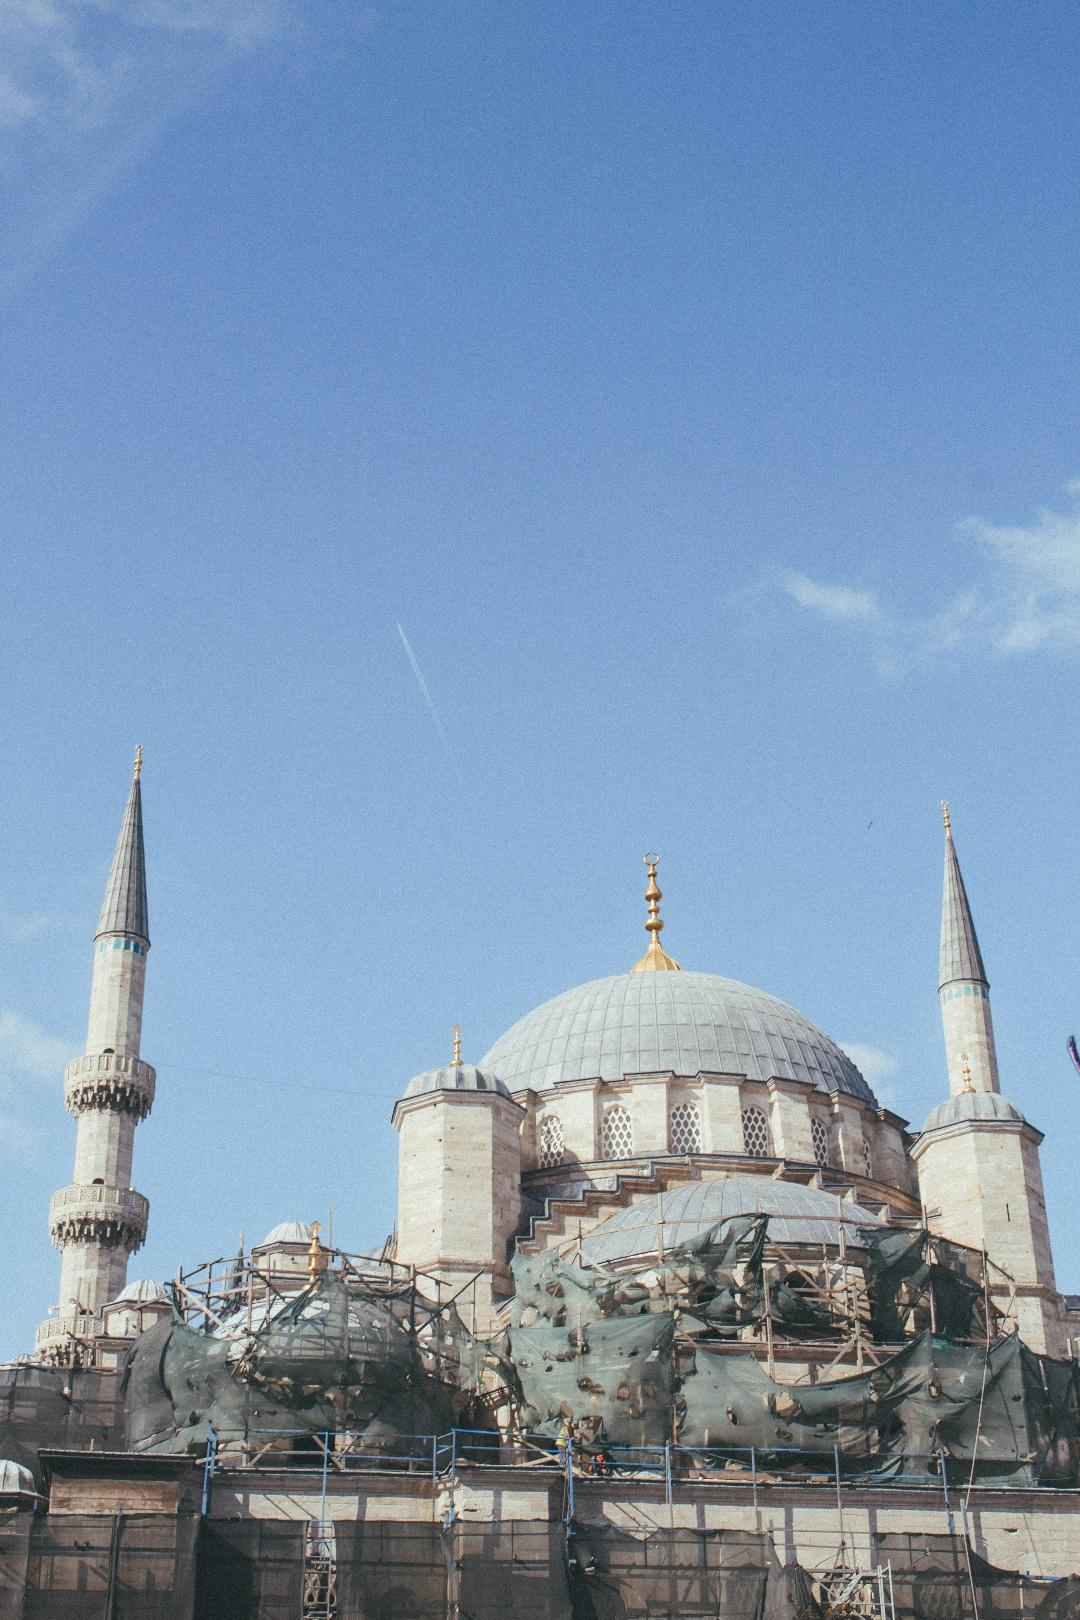paper-bag: (1030, 977, 1080, 1277)
